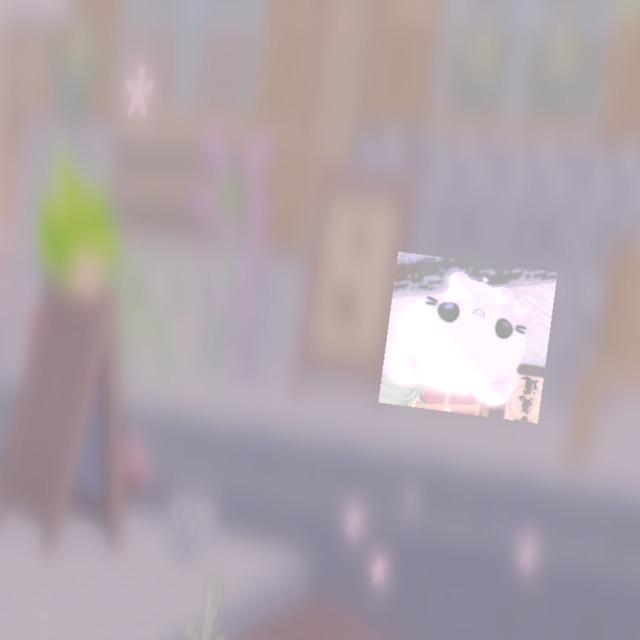urso_branco: (378, 251, 558, 424)
